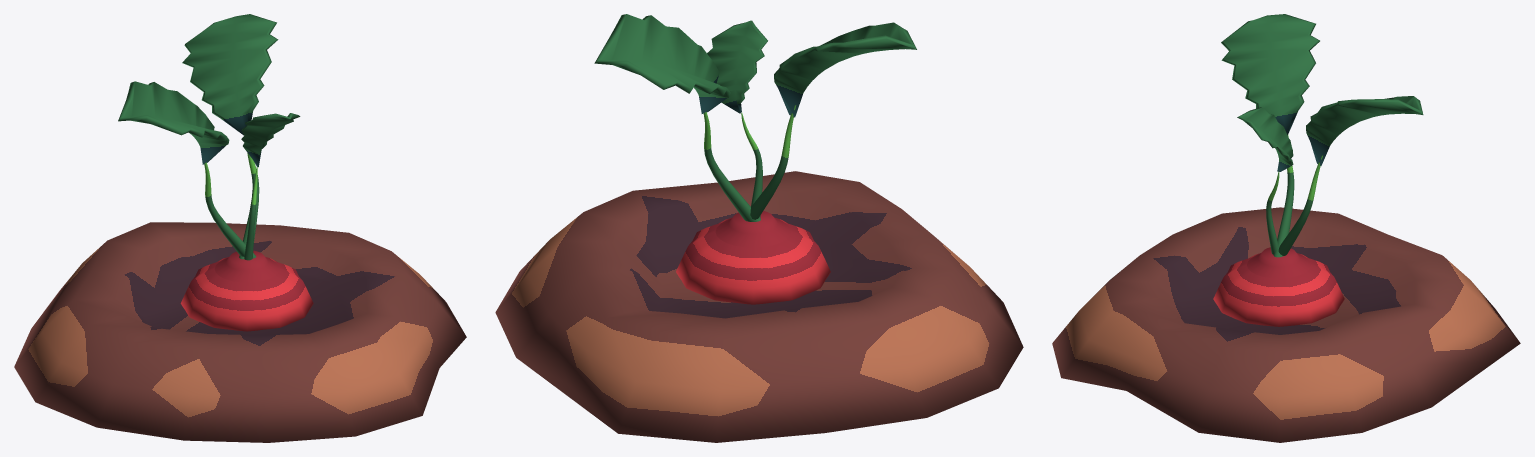
The model's file is Rabanito_Maduro.fbx.
The picture shows the model from 3 angles, left to right: view 1: azimuth 30°, elevation 25°; view 2: azimuth 150°, elevation 25°; view 3: azimuth 270°, elevation 25°; orthographic projection. The views are drawn at different scales.
Visible parts, largest first — view 1: Rabanito_Maduro; view 2: Rabanito_Maduro; view 3: Rabanito_Maduro.
Boxes of the visible parts, x1=… form: Rabanito_Maduro: x1=14, y1=14, x2=466, y2=442; Rabanito_Maduro: x1=495, y1=14, x2=1023, y2=442; Rabanito_Maduro: x1=1052, y1=14, x2=1520, y2=442.
Bounding box in the file's own units: 150 × 98.53 × 150.
